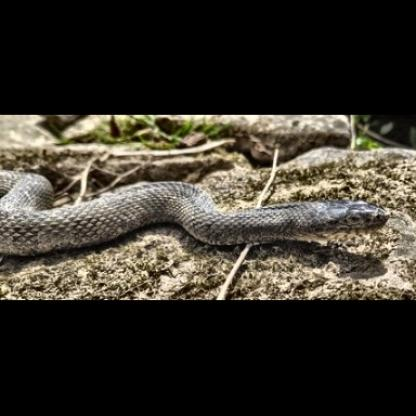Snake: (2, 140, 394, 271)
